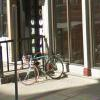Bicycle: (15, 46, 72, 93)
